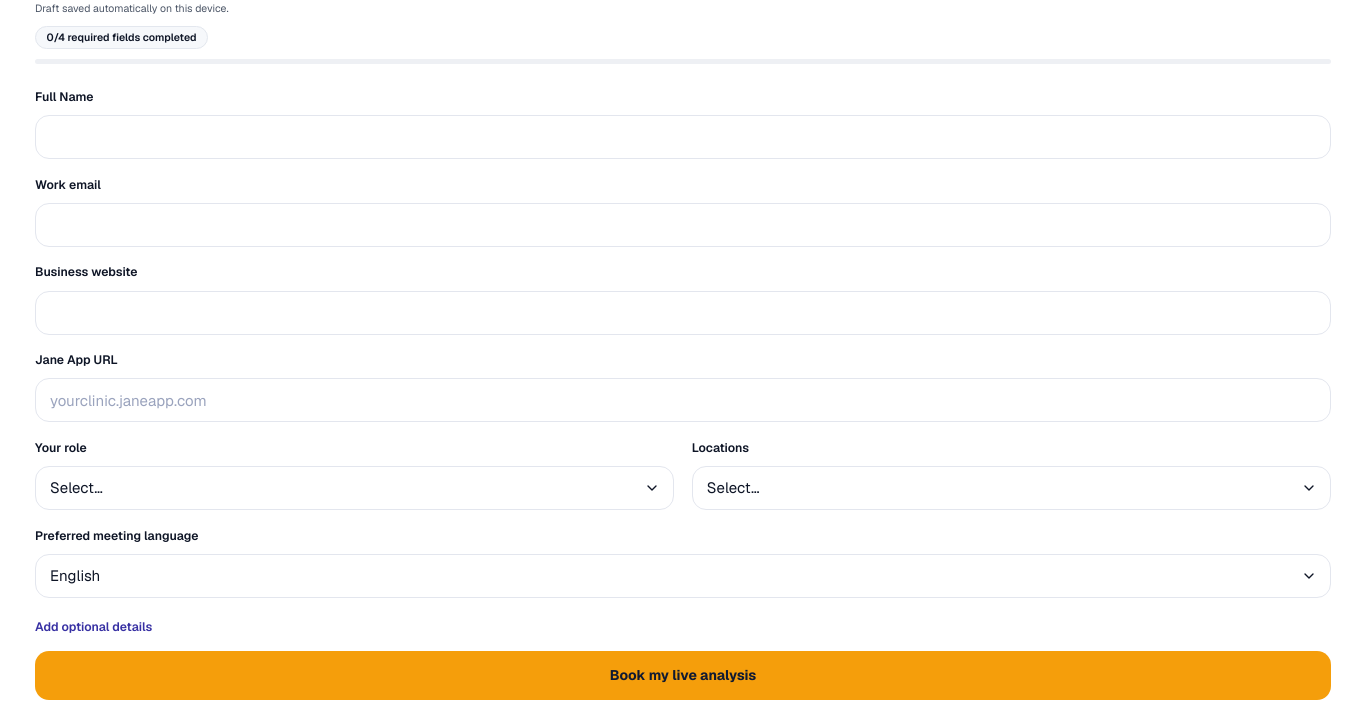
Test: demo form › shows the optional details only when asked
(page scrolled)
Expected: the field labelled "phone" is not shown
Click the button "Add optional details": (94, 628) [35,619,152,636]
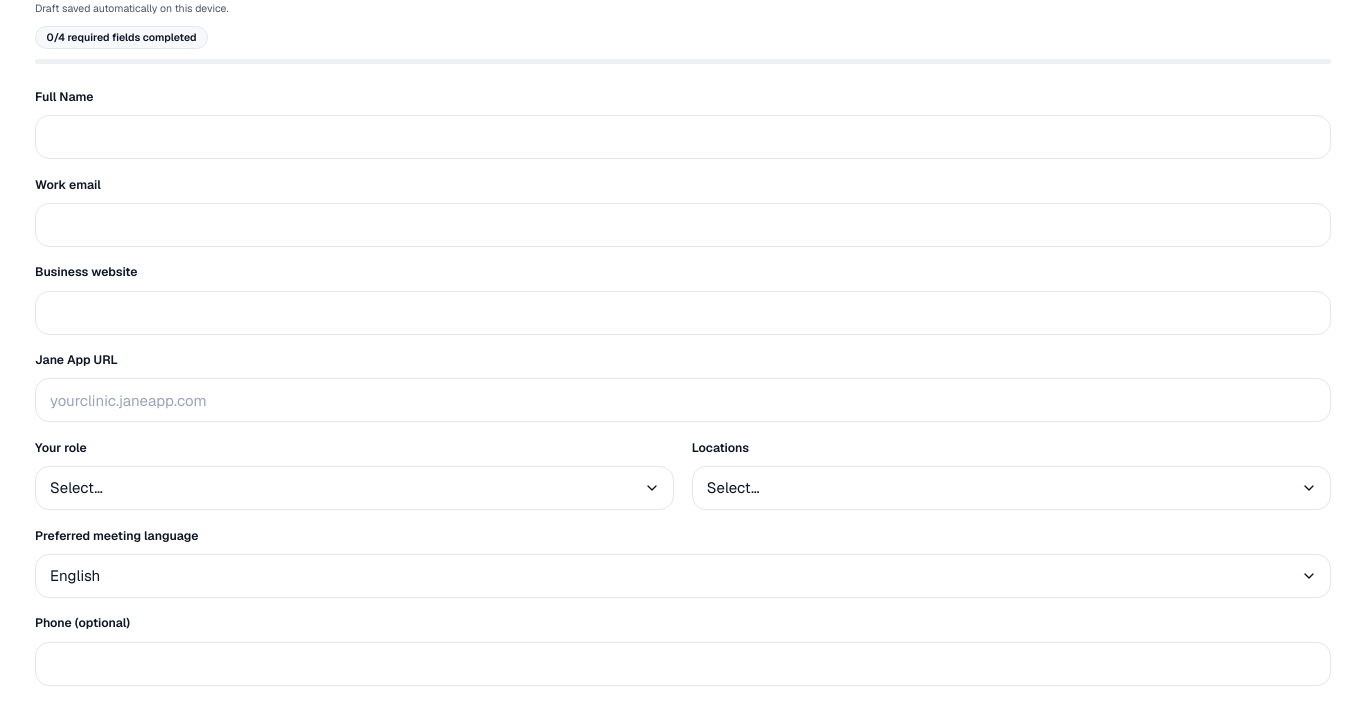
Expected: the field labelled "Phone (optional)" is shown, [35,642,1331,686]
